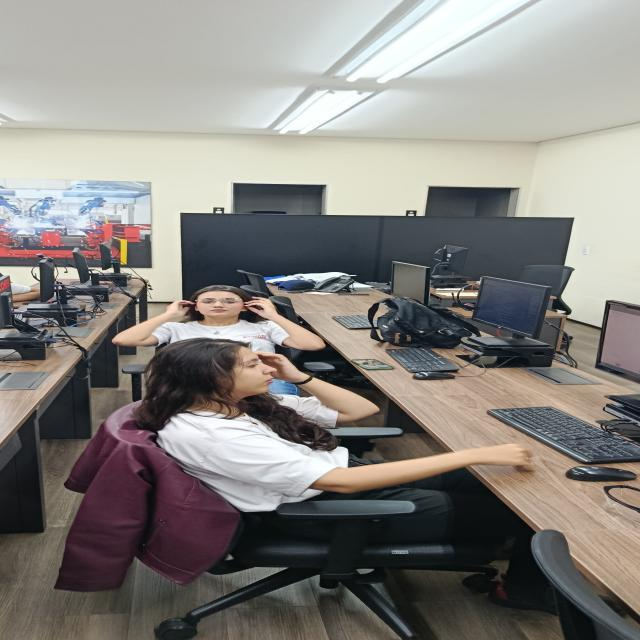sem_oculos: (221, 358, 274, 370), (194, 298, 245, 305)
